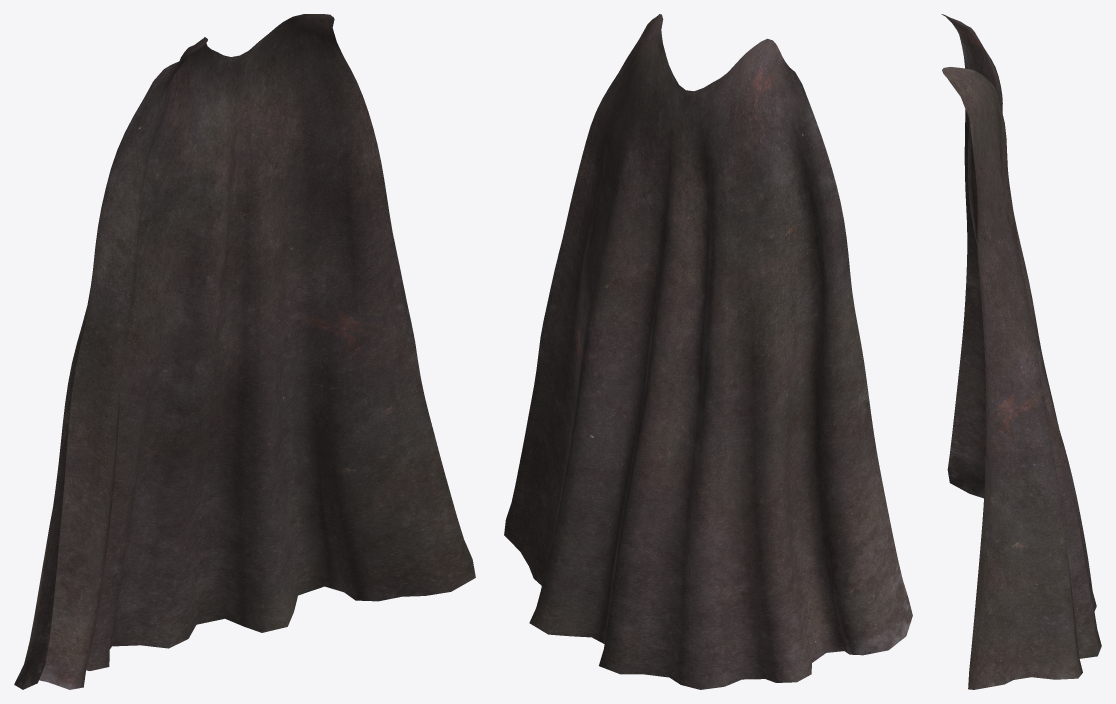
Rendered from clo_thranduil_shoulder.fbx.
The picture shows the model from 3 angles, left to right: view 1: azimuth 30°, elevation 25°; view 2: azimuth 150°, elevation 25°; view 3: azimuth 270°, elevation 25°; orthographic projection. The views are drawn at different scales.
Visible parts, largest first — view 1: clo_thranduil_shoulder; view 2: clo_thranduil_shoulder; view 3: clo_thranduil_shoulder.
Boxes of the visible parts, <box> form: clo_thranduil_shoulder: <box>14,14,475,689</box>; clo_thranduil_shoulder: <box>504,14,912,689</box>; clo_thranduil_shoulder: <box>941,14,1101,689</box>.
Bounding box in the file's own units: 1.05 × 0.3594 × 1.48.
Materials: 1 (1 with a texture image).
